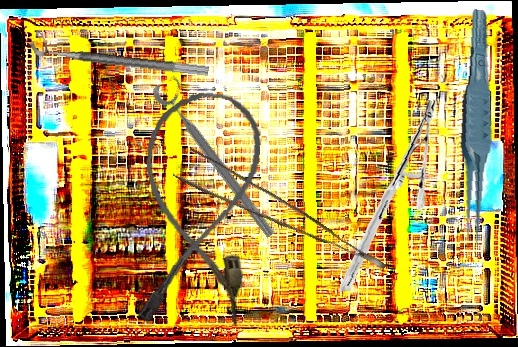Cannula: (129, 86, 266, 332)
Fixation Ring: (149, 72, 289, 242), (29, 29, 211, 77)
Needle Holder: (324, 99, 453, 292)
Tissue Forceps: (172, 137, 387, 303), (445, 8, 506, 249)
